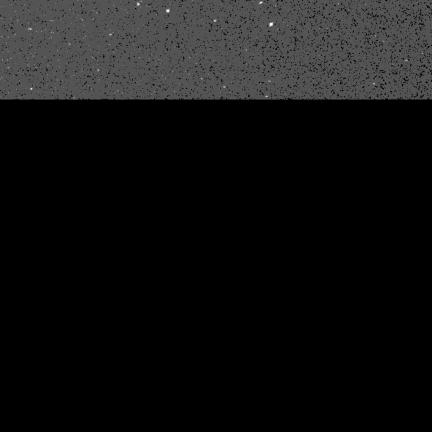blob: (166, 9, 170, 13), (269, 23, 273, 26)
